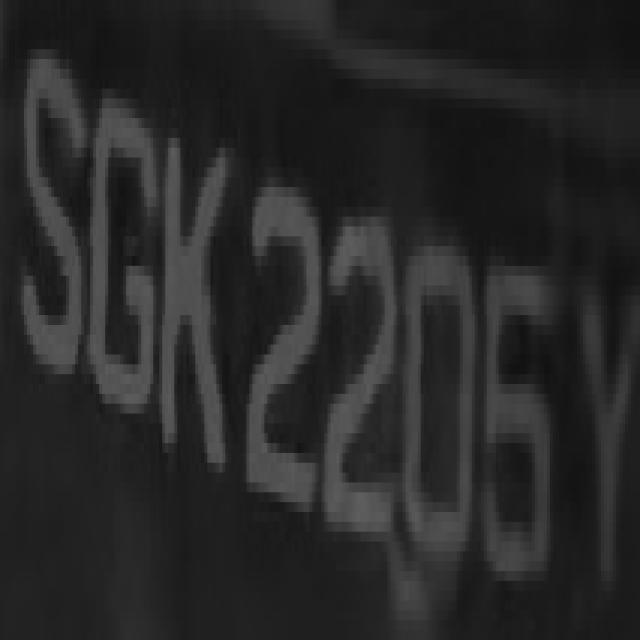0: (400, 217, 480, 610)
2: (324, 148, 408, 610), (238, 158, 322, 552)
5: (484, 207, 562, 630)
G: (87, 59, 162, 433)
K: (154, 99, 238, 532)
S: (21, 29, 81, 423)
Y: (562, 187, 640, 620)
